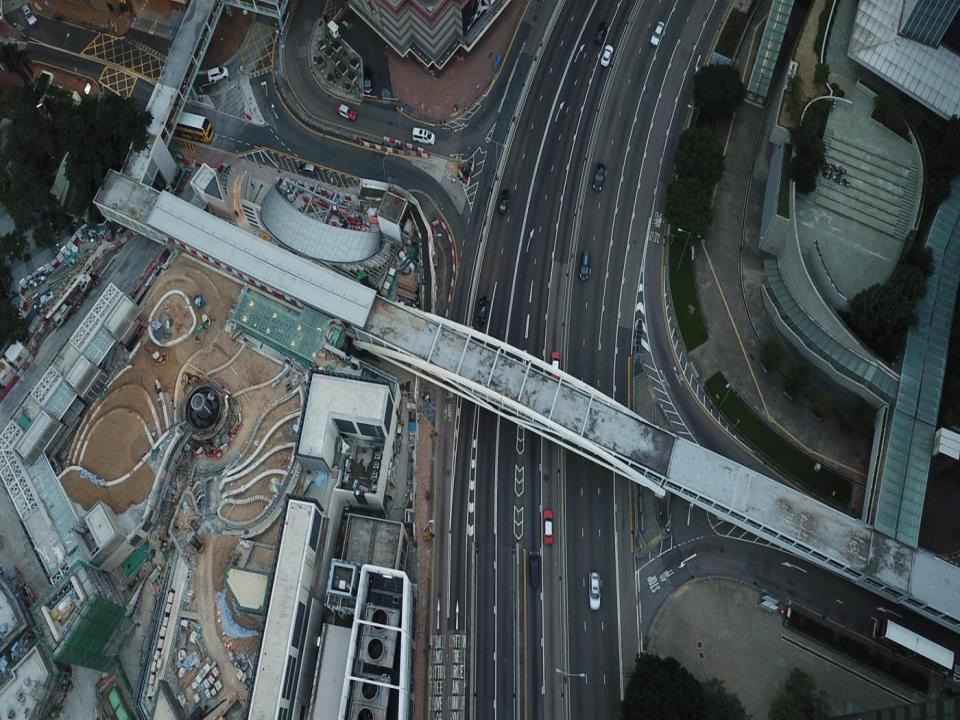bus: (870, 612, 955, 676), (156, 106, 214, 140)
car: (588, 569, 601, 609), (591, 162, 607, 194), (548, 349, 560, 389), (649, 17, 664, 46), (204, 64, 230, 80), (579, 250, 591, 284), (543, 504, 553, 544), (18, 2, 37, 23), (477, 292, 490, 321), (334, 100, 356, 117), (411, 127, 433, 143), (596, 17, 607, 48), (600, 42, 612, 63), (497, 188, 508, 209), (297, 162, 315, 174)
van: (527, 548, 539, 583), (363, 64, 372, 96)
